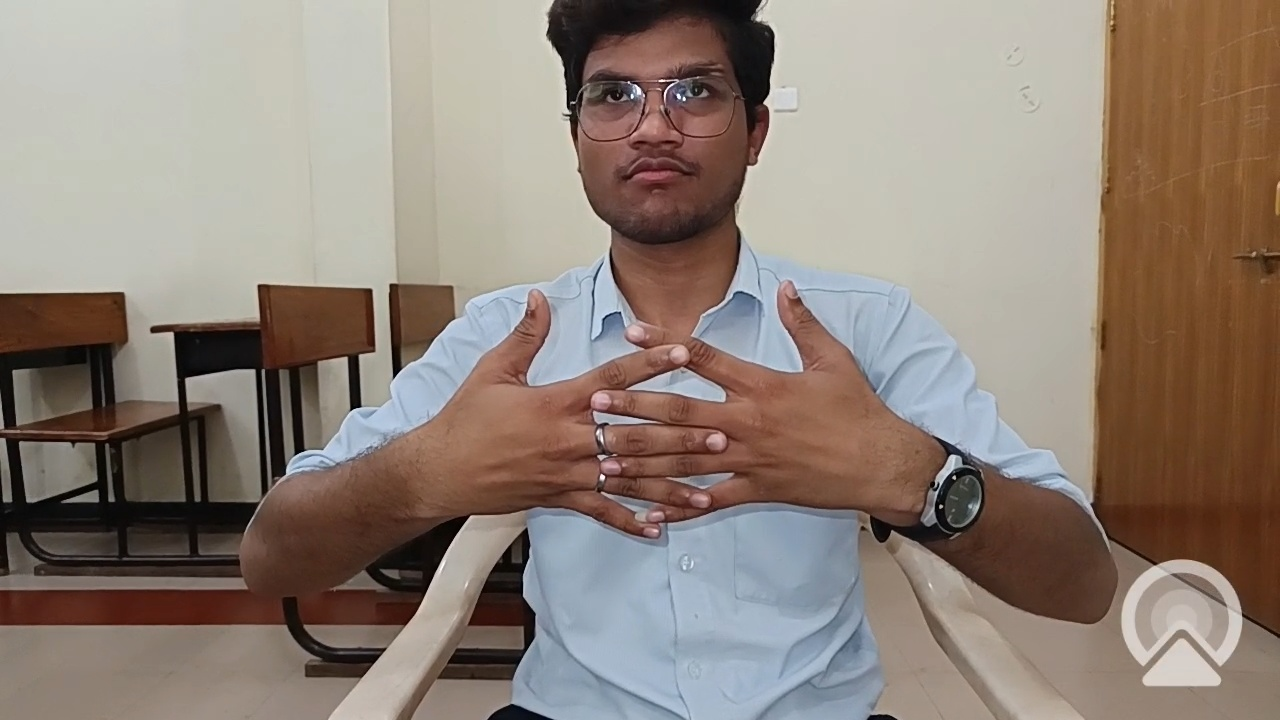W: (389, 239, 941, 590)
